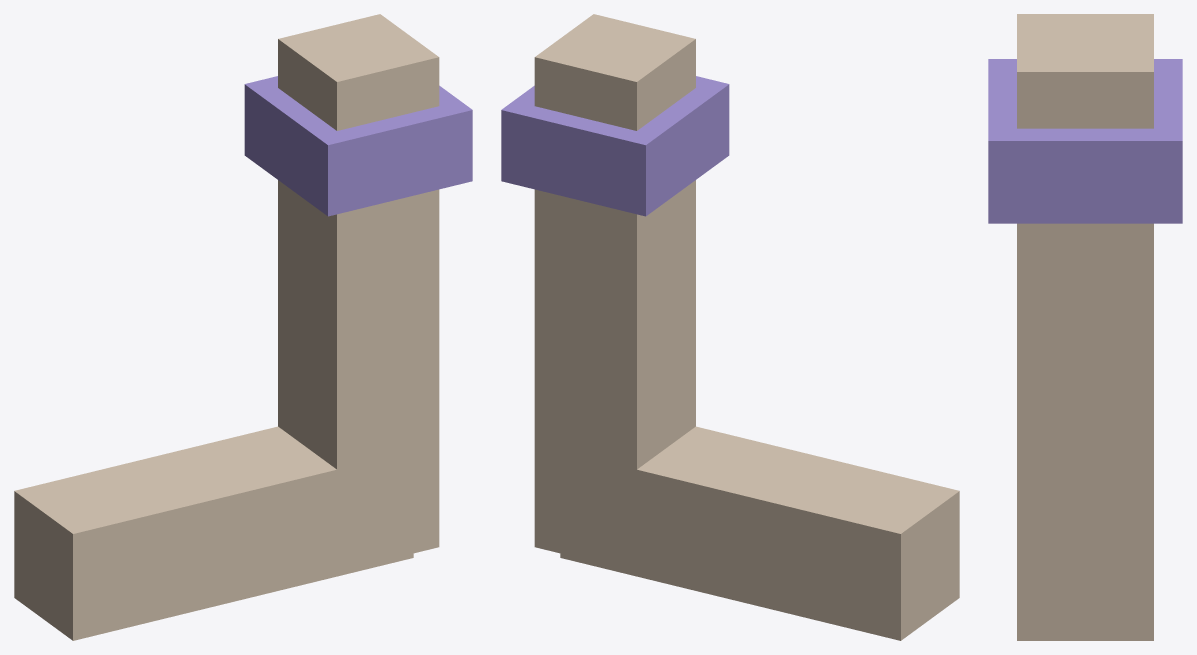
The model's file is pipe.gltf.
The picture shows the model from 3 angles, left to right: view 1: azimuth 30°, elevation 25°; view 2: azimuth 150°, elevation 25°; view 3: azimuth 270°, elevation 25°; orthographic projection. The views are drawn at different scales.
Parts seen in each view (by area): view 1: vertical, bend, joint; view 2: vertical, bend, joint; view 3: vertical, joint.
Part boxes in pixels (x1=…): vertical: x1=278, y1=14, x2=439, y2=571; bend: x1=14, y1=426, x2=413, y2=640; joint: x1=244, y1=76, x2=472, y2=216; vertical: x1=534, y1=14, x2=695, y2=571; bend: x1=560, y1=426, x2=959, y2=640; joint: x1=501, y1=76, x2=729, y2=216; vertical: x1=1017, y1=14, x2=1153, y2=640; joint: x1=988, y1=59, x2=1182, y2=223.
Bounding box in the file's own units: 0.455 × 0.555 × 0.17.
